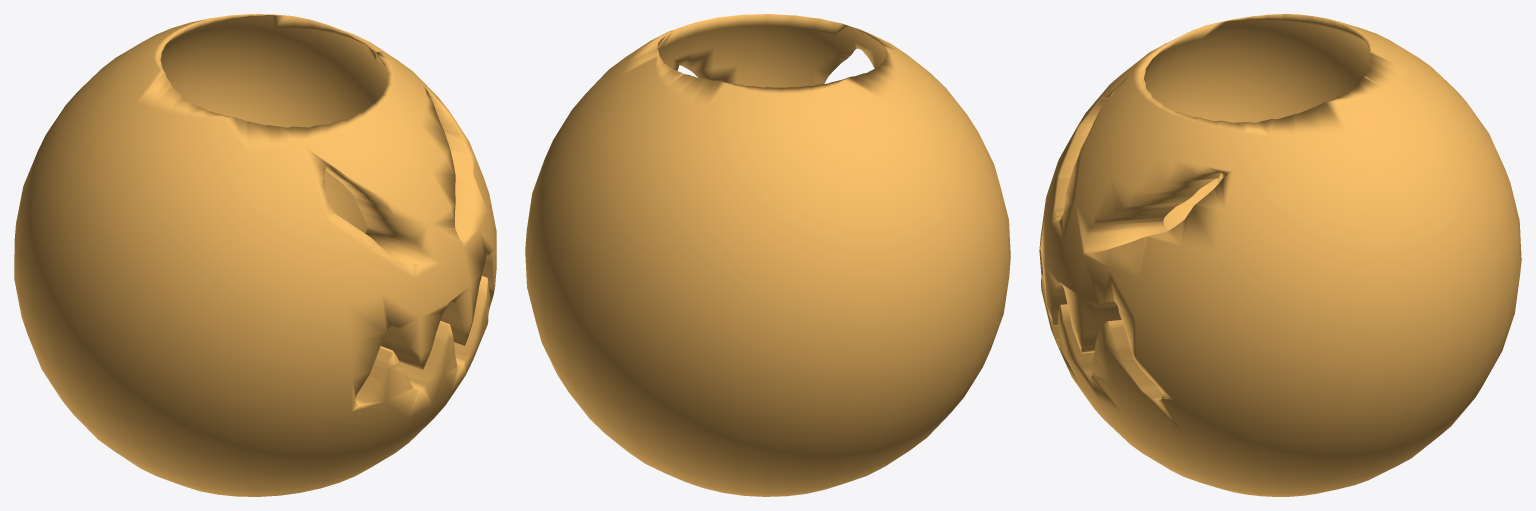
The picture shows the model from 3 angles, left to right: view 1: azimuth 30°, elevation 25°; view 2: azimuth 150°, elevation 25°; view 3: azimuth 270°, elevation 25°; orthographic projection.
Visible parts, largest first — view 1: obj_0.004_obj_0.002; view 2: obj_0.004_obj_0.002; view 3: obj_0.004_obj_0.002.
Part boxes in pixels (bbox=[...]): obj_0.004_obj_0.002: bbox=[14, 14, 496, 496]; obj_0.004_obj_0.002: bbox=[525, 14, 1010, 496]; obj_0.004_obj_0.002: bbox=[1039, 14, 1521, 496].
Size of the model in its own units: 0.0427 by 0.0412 by 0.0428.
